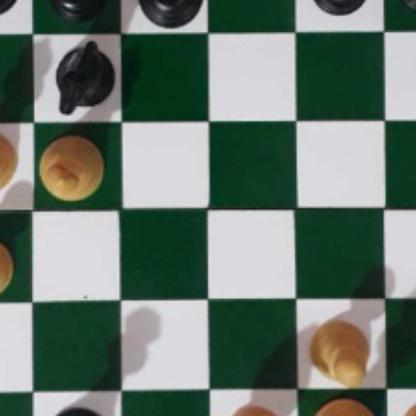black-bishop: (134, 0, 206, 32)
black-knight: (49, 38, 116, 116)
black-pawn: (47, 0, 106, 18), (310, 0, 369, 14), (0, 0, 18, 16), (397, 0, 416, 12)
black-queen: (38, 402, 114, 416)
white-bishop: (38, 134, 104, 204), (0, 128, 19, 195)
white-king: (310, 398, 384, 416)
white-knight: (221, 404, 300, 416)
white-pawn: (306, 313, 371, 384), (0, 236, 12, 297), (397, 400, 416, 416)
